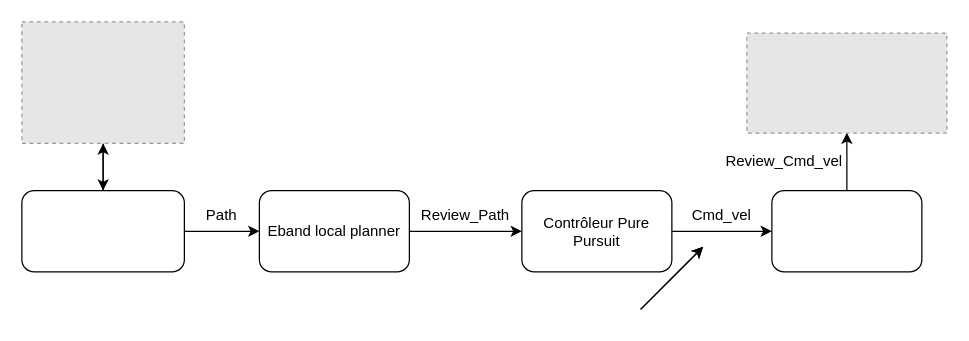
Image size: 969x341. Some labels were removed from this diagram. Grey dashed boxes stand in for pictures. Here are the shapes that lost their labels. From the top down, the centre of each, then its label:
point (102, 230): Détècteur de lisière et générateur de path
point (846, 230): DWA local planner
